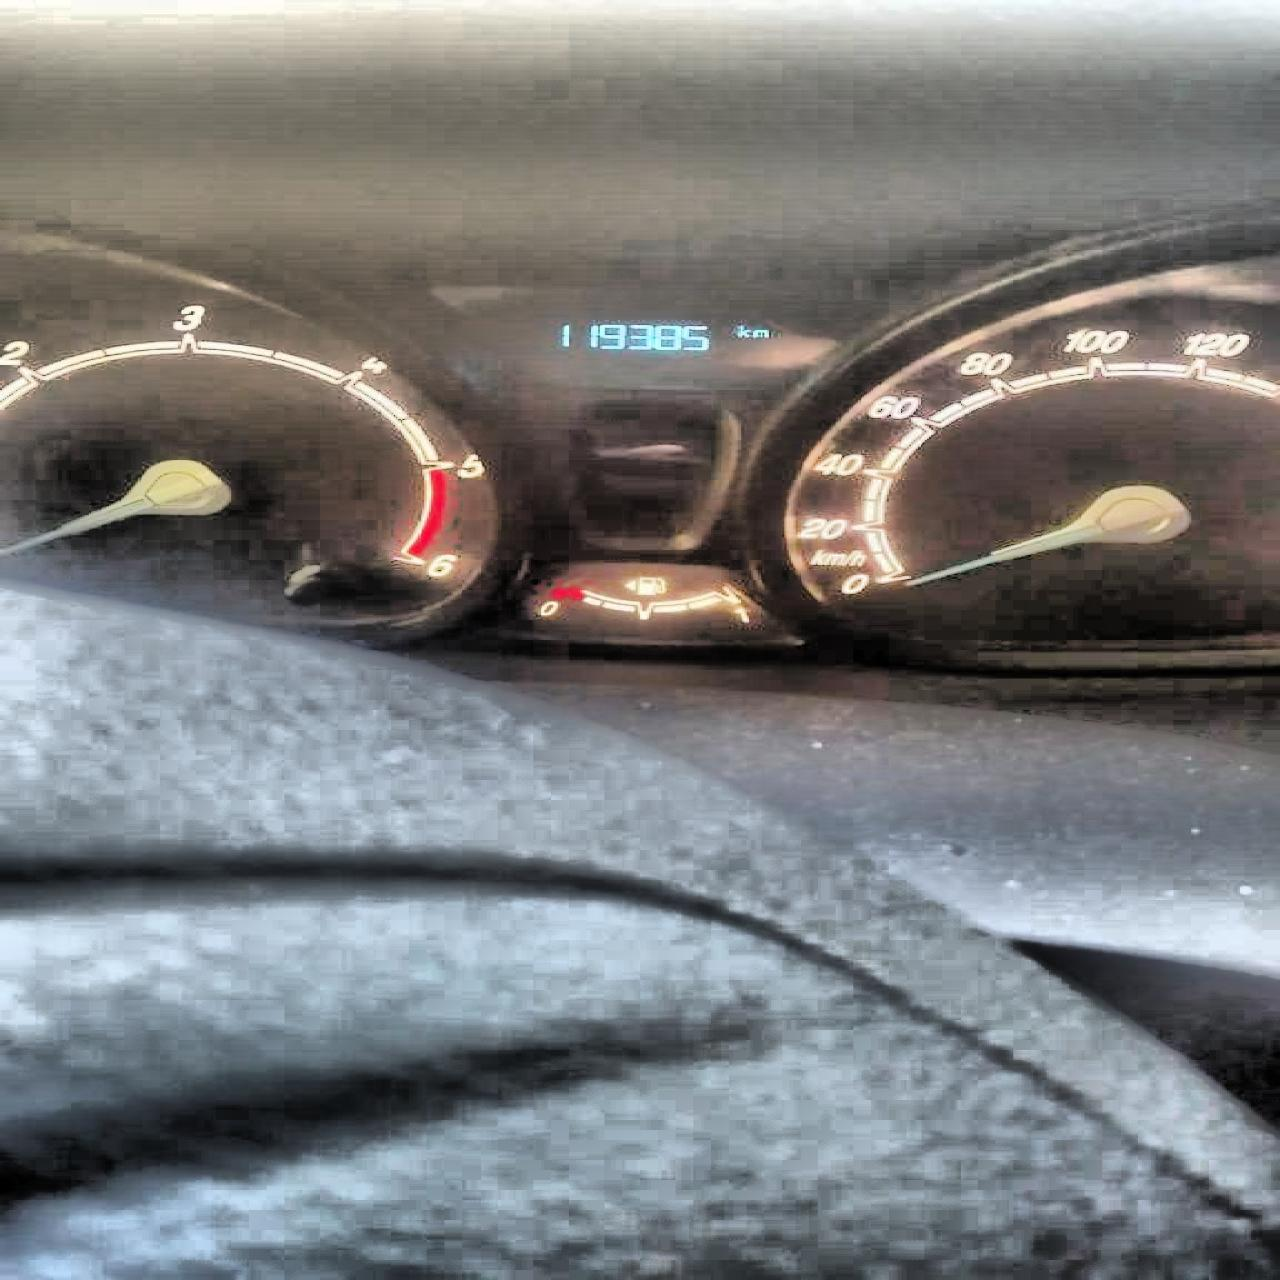1: (553, 320, 573, 348), (580, 321, 598, 349)
3: (625, 322, 652, 348)
5: (680, 322, 707, 349)
8: (653, 324, 680, 350)
9: (598, 322, 622, 348)
X: (734, 322, 749, 338), (751, 327, 767, 338)
odometer: (437, 300, 843, 396)
